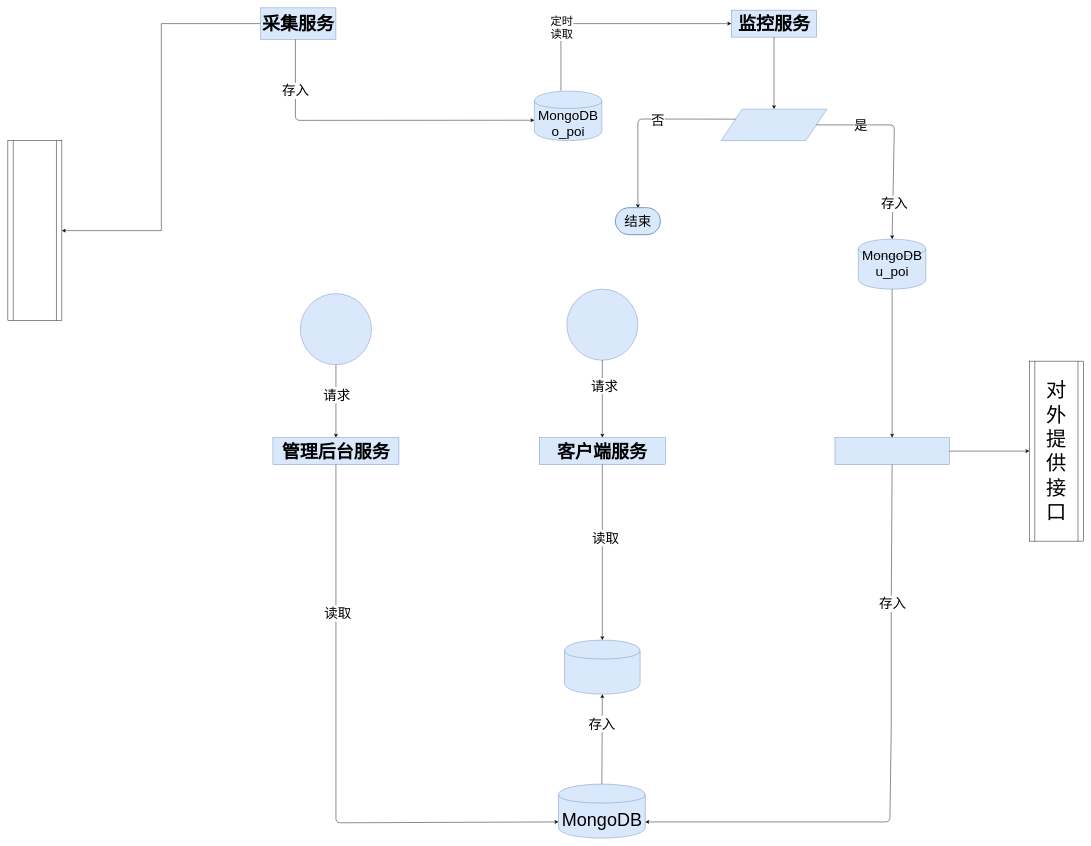
Image size: 1091x846. Some labels were removed from this diagram. The box of each missing label's shape, as (x1, y1, x2, y2) in pixels:
Redis: (564, 640, 640, 694)
判断POI变化: (721, 109, 827, 141)
客户端: (566, 289, 638, 360)
更新服务: (835, 437, 949, 465)
管理后台 客户端: (300, 293, 371, 365)
